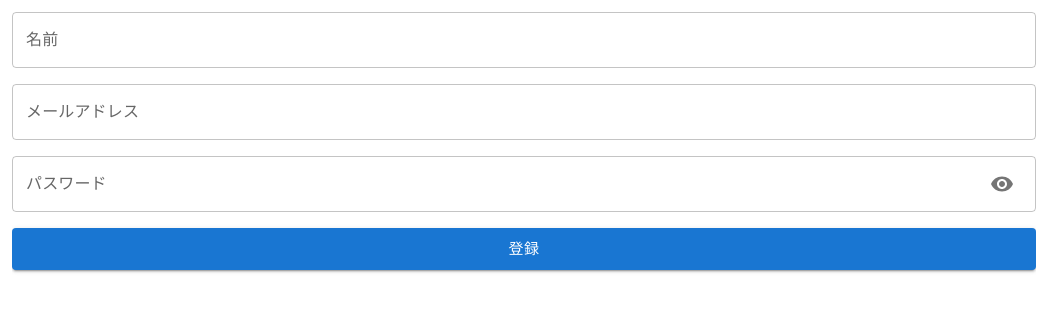
Test: onBlurでバリデーションを実行する › パスワードは必須入力 › 入力していない場合 › エラーメッセージが表示されること
Click the password field labelled "パスワード": (497, 184) [12, 156, 982, 212]
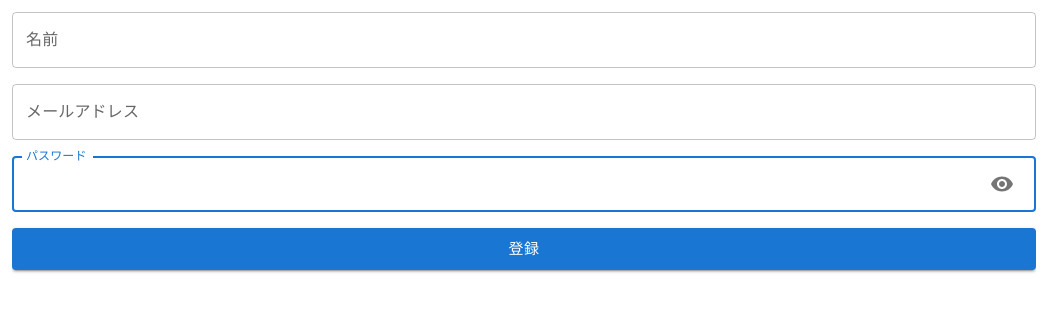
Press Tab
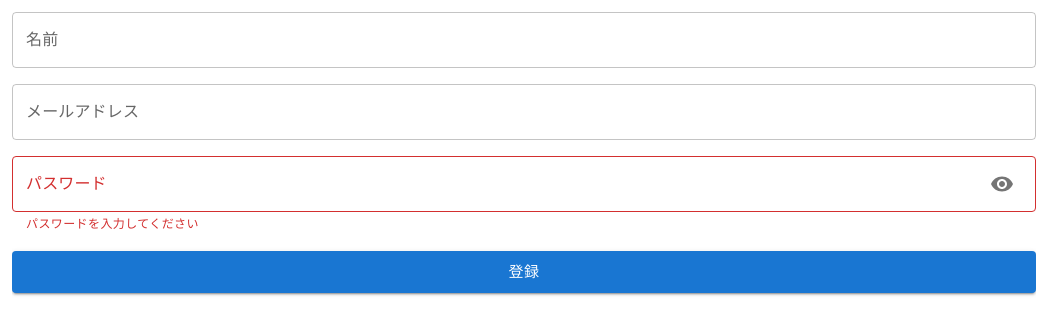
expect the text "パスワードを入力してください" is shown: met, box [26, 217, 199, 231]
